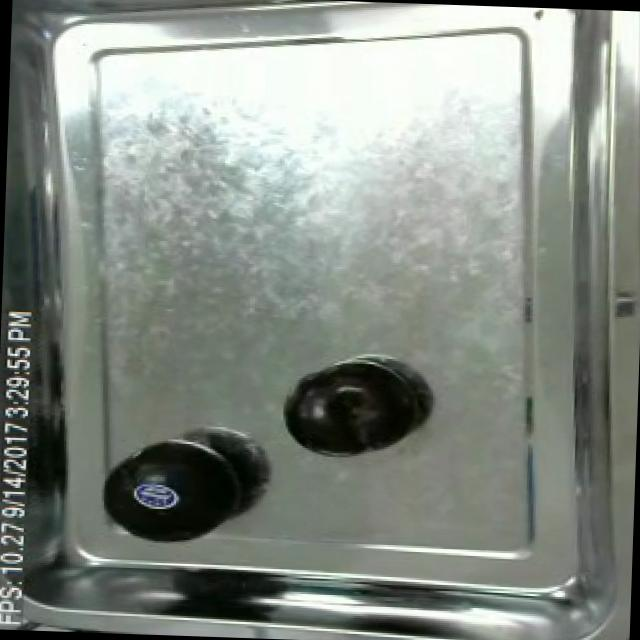Fruit: (281, 362, 420, 463), (122, 470, 186, 520)
